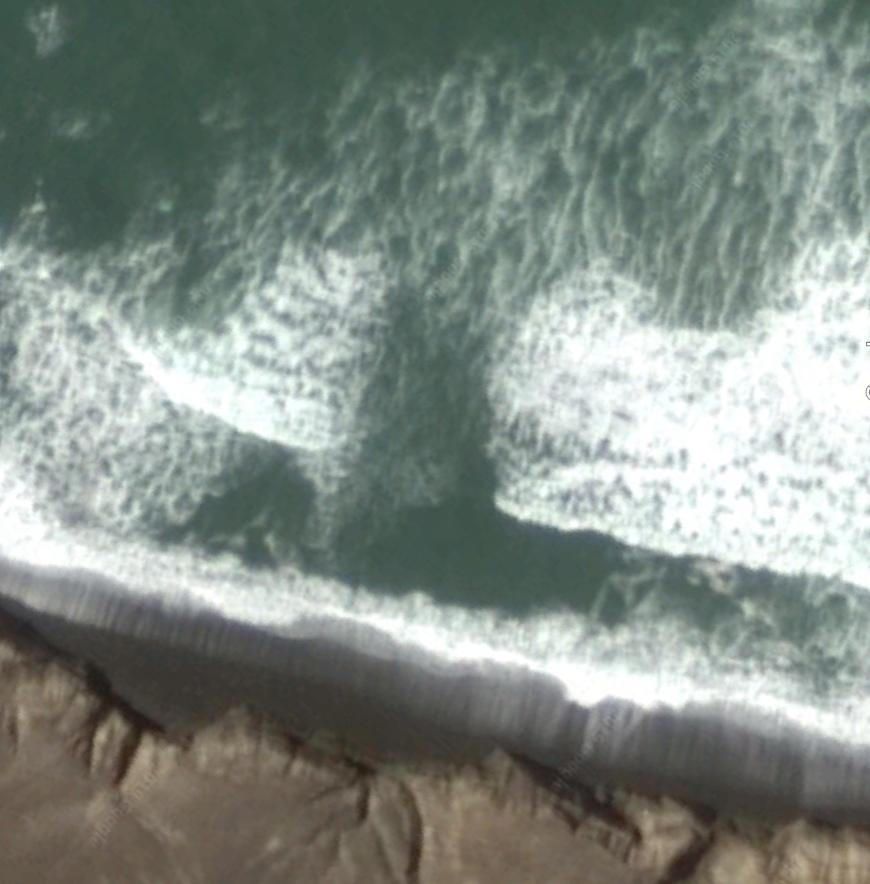rip_current: (317, 97, 607, 614)
